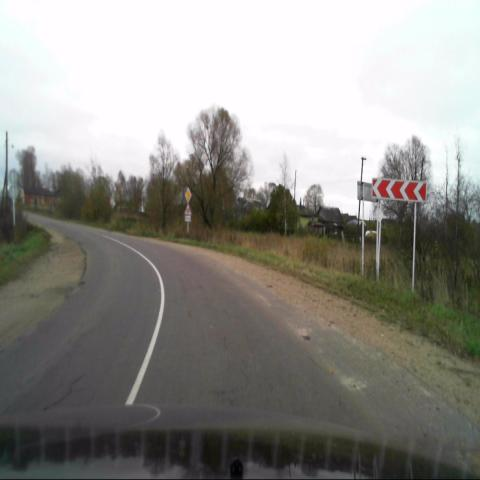2_1: (184, 188, 191, 204)
